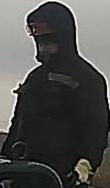gloves: (62, 154, 97, 187)
helmet: (25, 13, 60, 39)
vest: (3, 61, 109, 162)
